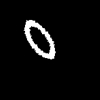chain: (24, 20, 54, 58)
